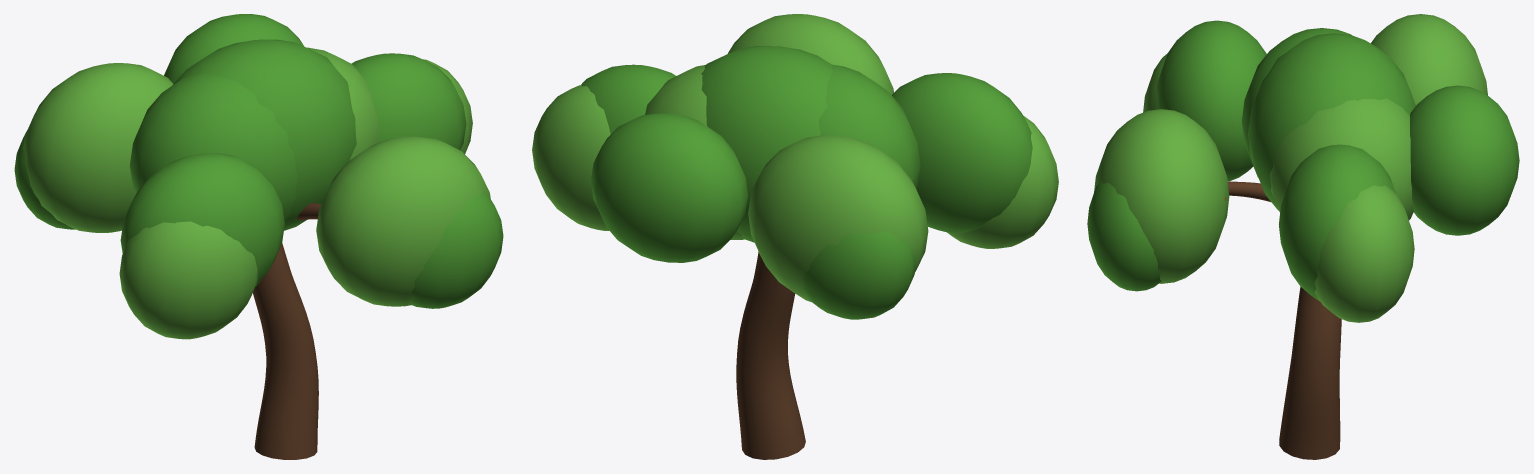
File: schoolyard_flamboyant_tree.glb
The picture shows the model from 3 angles, left to right: view 1: azimuth 30°, elevation 25°; view 2: azimuth 150°, elevation 25°; view 3: azimuth 270°, elevation 25°; orthographic projection. The views are drawn at different scales.
Visible parts, largest first — view 1: Vietnamese_Schoolyard_Flamboyant_Tree; view 2: Vietnamese_Schoolyard_Flamboyant_Tree; view 3: Vietnamese_Schoolyard_Flamboyant_Tree.
Part boxes in pixels (left/top/right/bottom): Vietnamese_Schoolyard_Flamboyant_Tree: left=14, top=14, right=503, bottom=459; Vietnamese_Schoolyard_Flamboyant_Tree: left=532, top=14, right=1058, bottom=459; Vietnamese_Schoolyard_Flamboyant_Tree: left=1087, top=14, right=1519, bottom=459.
Size of the model in its own units: 7.8 by 7.06 by 7.
